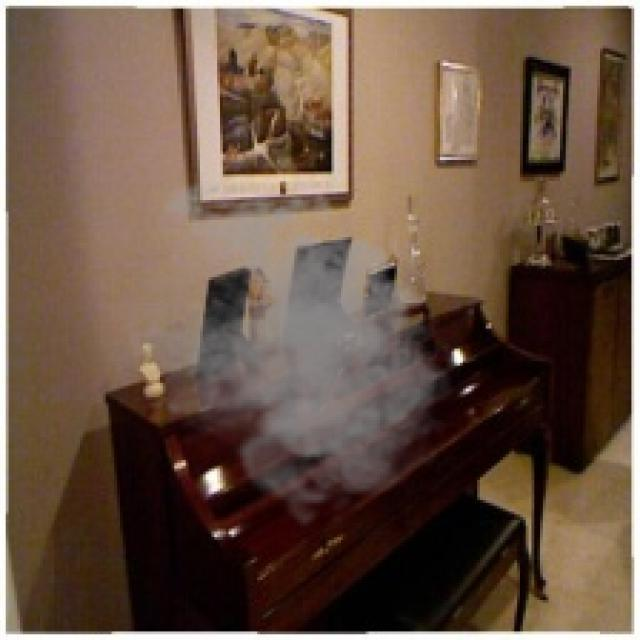Smoke: (106, 172, 463, 528)
